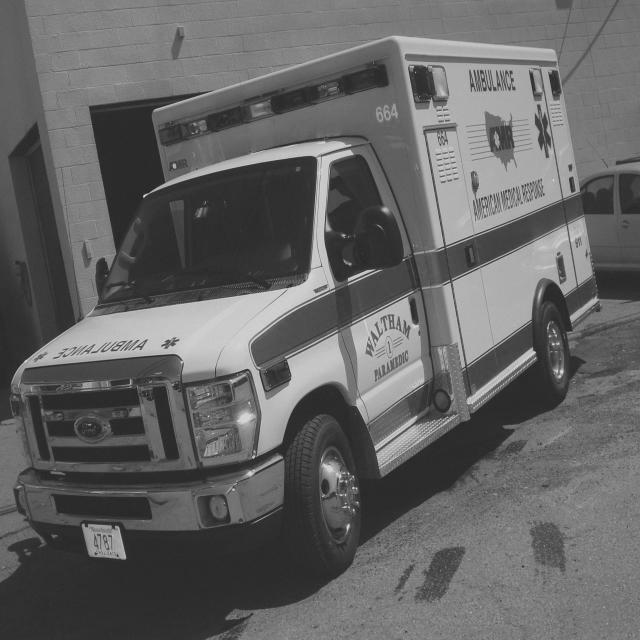Ambulance: (9, 36, 598, 581)
